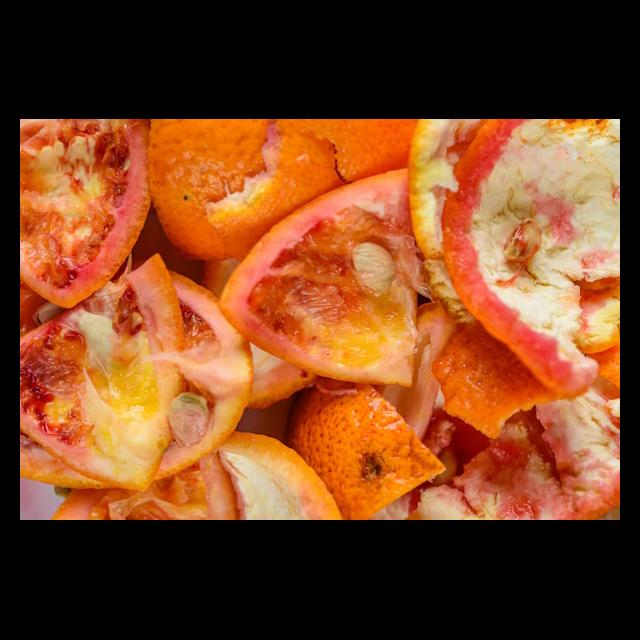food_waste: (437, 120, 620, 384), (208, 184, 423, 385), (20, 304, 182, 494), (20, 122, 169, 284), (165, 120, 276, 267)
